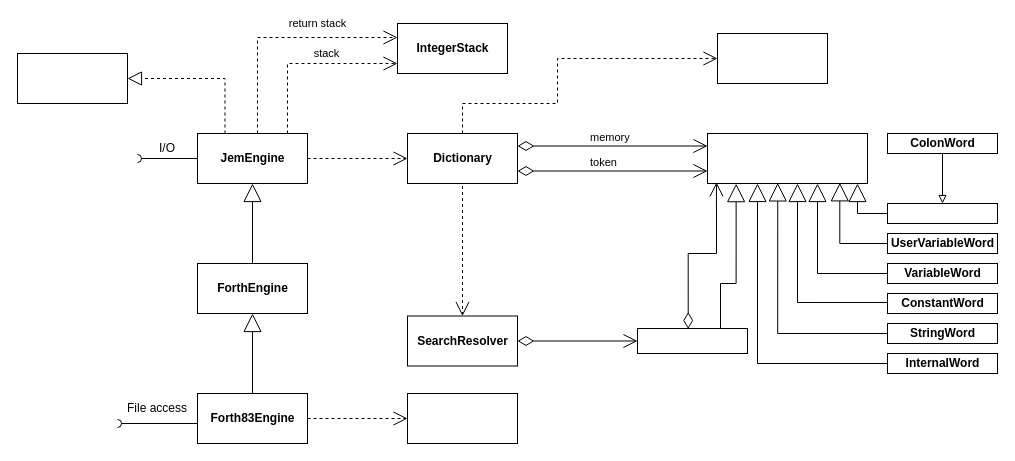
Image size: 1015x461. Some labels were removed from this diagram. Each missing label, with the box of its shape:
BlockBuffer: (406, 392, 518, 444)
CellListWord: (886, 202, 998, 224)
MemoryMapper: (716, 32, 828, 84)
VocabularyWord: (636, 328, 748, 354)
Word: (706, 132, 868, 184)
«interface» Inspectable: (16, 52, 128, 104)
